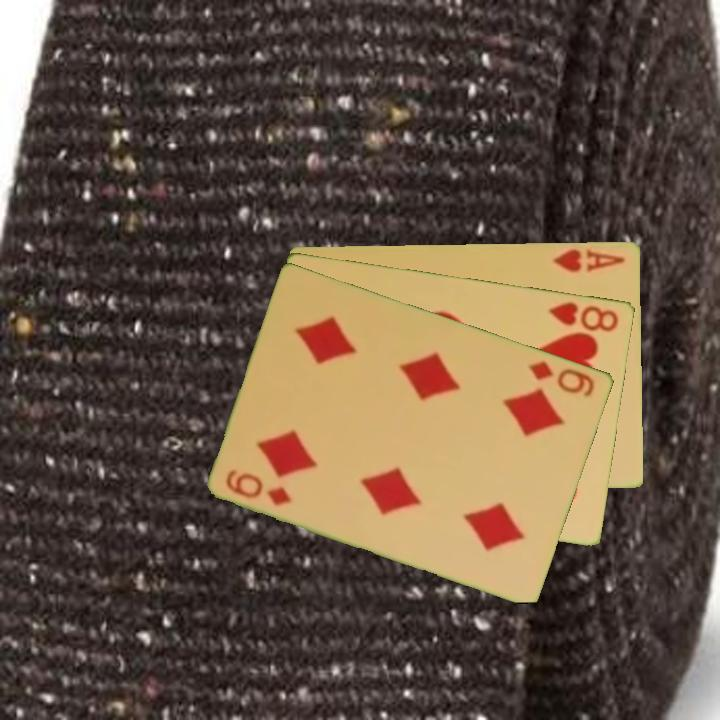6d: (222, 464, 296, 508), (525, 357, 598, 400)
8h: (545, 298, 622, 334)
Ah: (550, 245, 628, 275)
